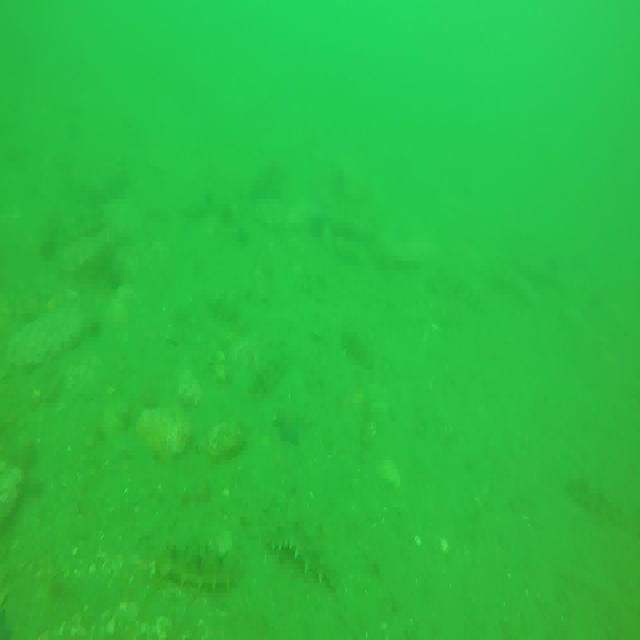holothurian: (265, 520, 338, 590), (565, 475, 631, 531), (164, 542, 239, 588)
starfish: (277, 401, 315, 448)
